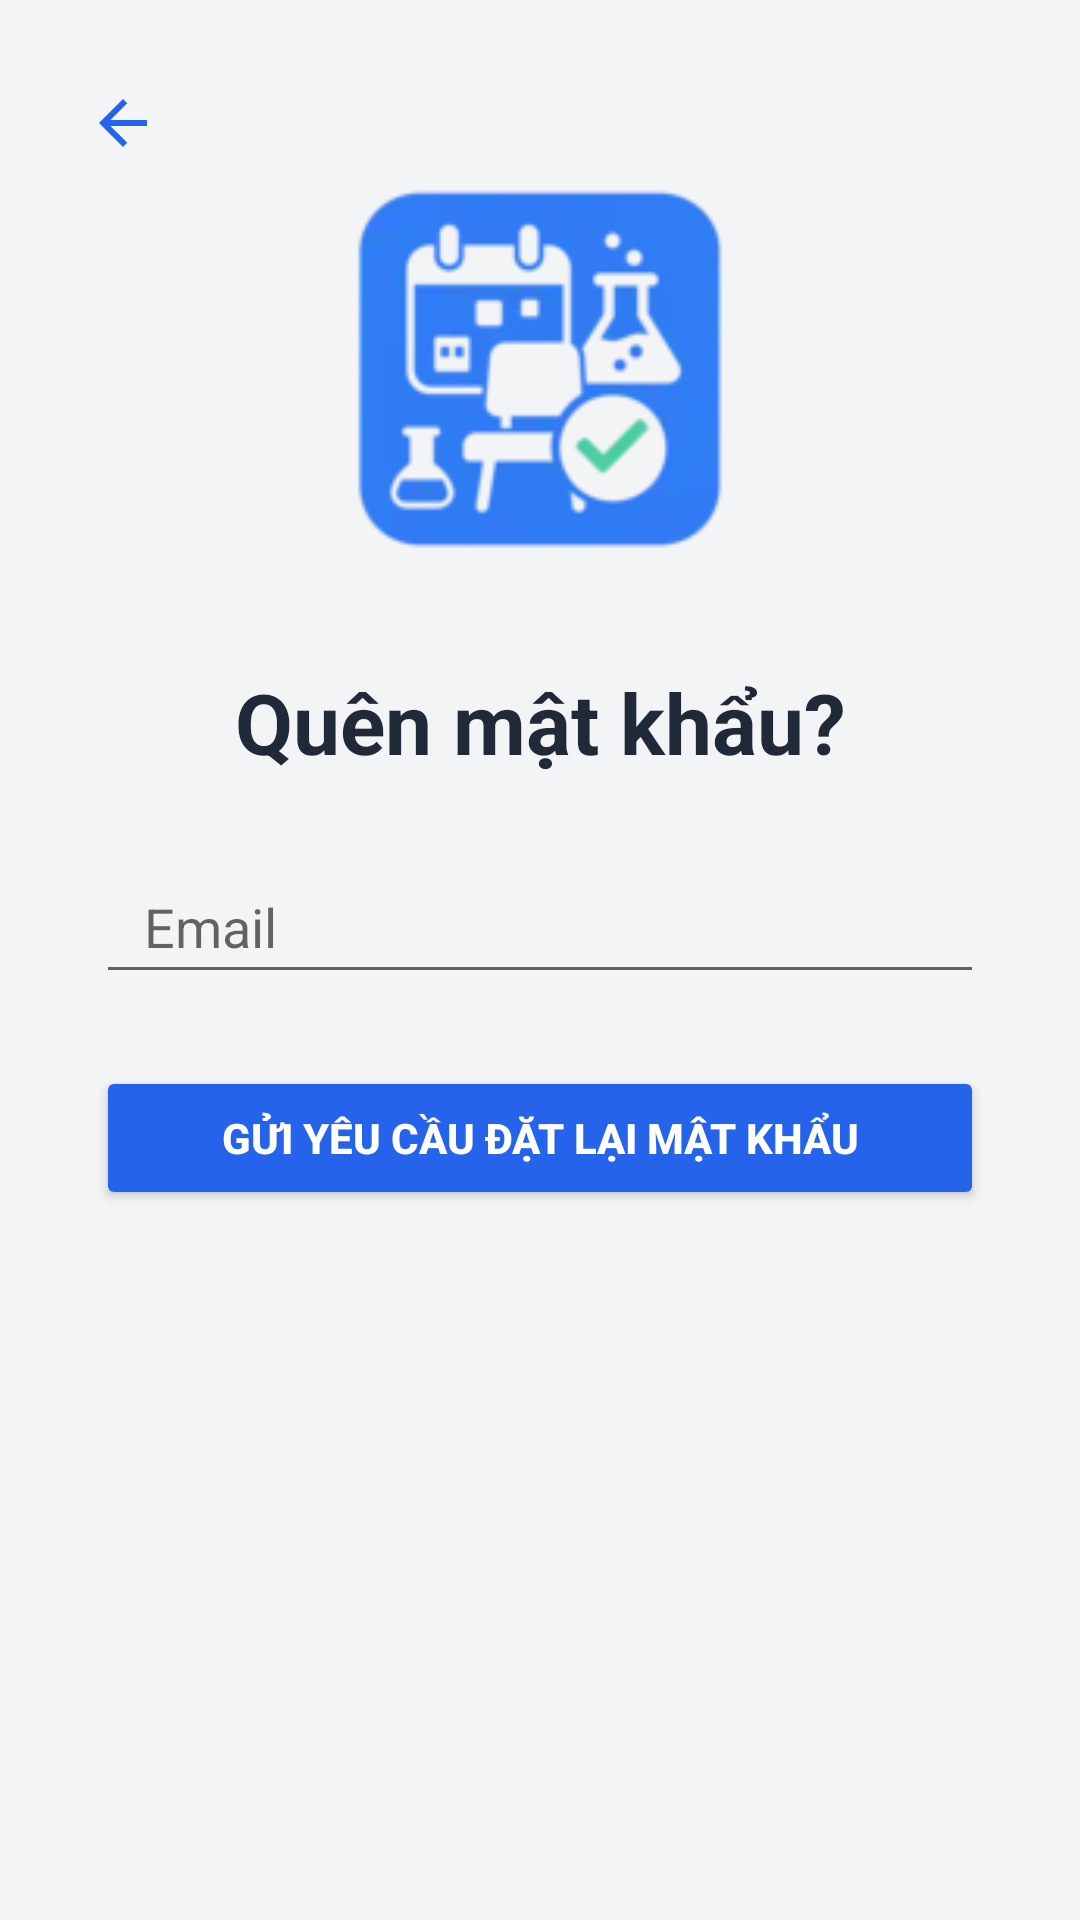

Locate icon controls on the screen. Image size 1080w x 1920h, boxes as [x1, y1, x2, y2].
Quay lại đăng nhập: [99, 99, 147, 147]
